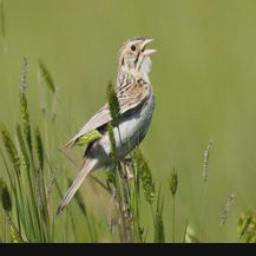Sparrow: (57, 34, 159, 215)
